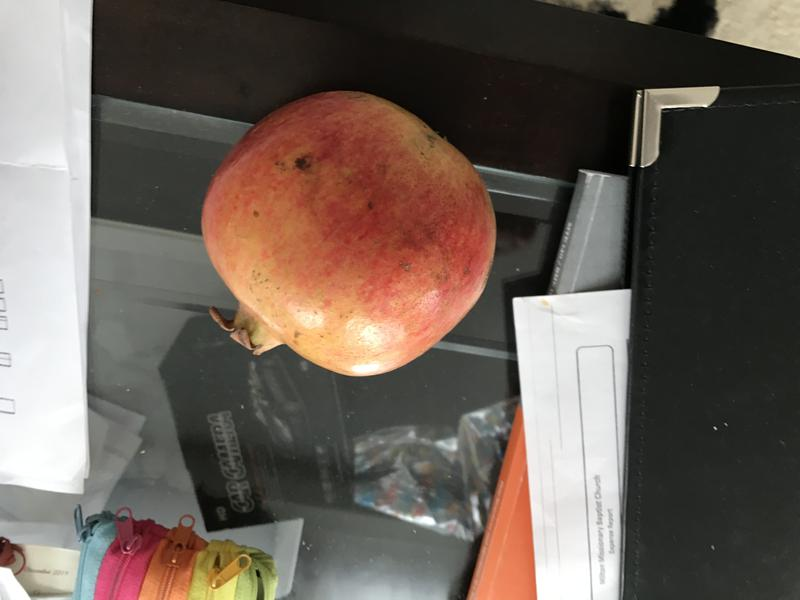pomegranate: (196, 77, 500, 383)
